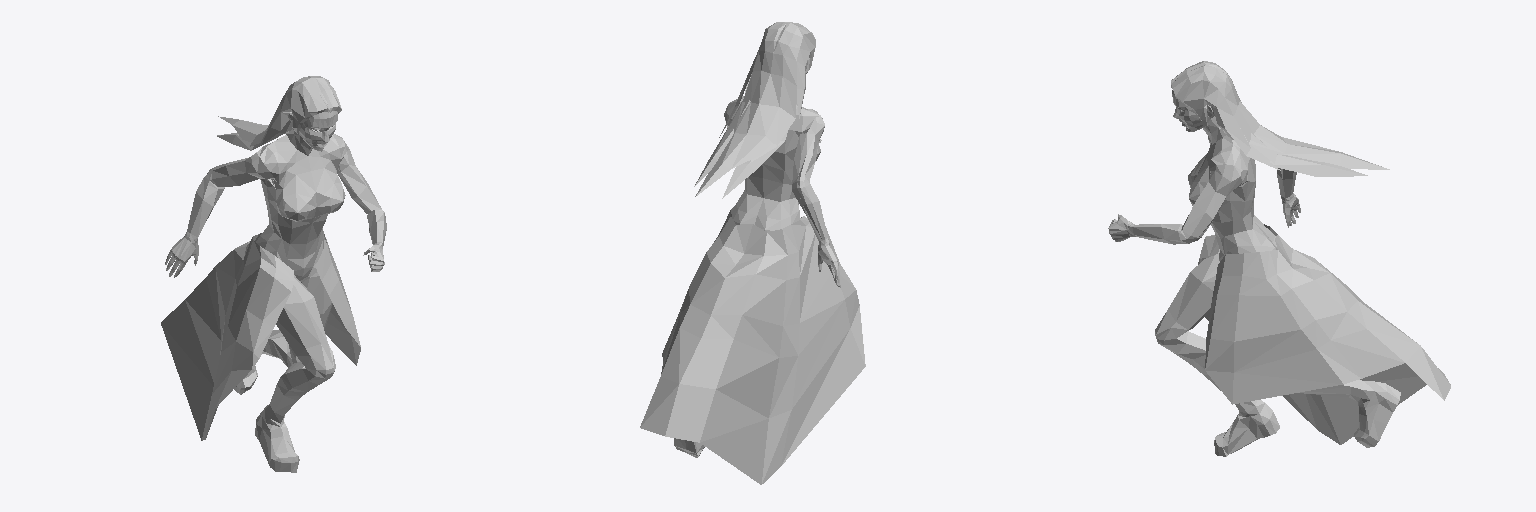
The model's file is running_013.obj.
3 views of the same model, side by side, from view 1: azimuth 30°, elevation 25°; view 2: azimuth 150°, elevation 25°; view 3: azimuth 270°, elevation 25° (orthographic).
Visible parts, largest first — view 1: Plane.001_Plane.007, Plane.003_Plane.008, capelli.001_Plane.006; view 2: Plane.003_Plane.008, capelli.001_Plane.006, Plane.001_Plane.007; view 3: Plane.003_Plane.008, Plane.001_Plane.007, capelli.001_Plane.006.
Boxes of the visible parts, x1,y1,x2,y2 form: Plane.001_Plane.007: [165, 94, 386, 472]; Plane.003_Plane.008: [161, 233, 360, 440]; capelli.001_Plane.006: [217, 76, 341, 150]; Plane.003_Plane.008: [640, 206, 865, 484]; capelli.001_Plane.006: [694, 22, 815, 198]; Plane.001_Plane.007: [674, 60, 840, 457]; Plane.003_Plane.008: [1198, 224, 1450, 444]; Plane.001_Plane.007: [1108, 71, 1400, 456]; capelli.001_Plane.006: [1171, 61, 1389, 176].
Size of the model in its own units: 2.1 by 4.98 by 3.85.